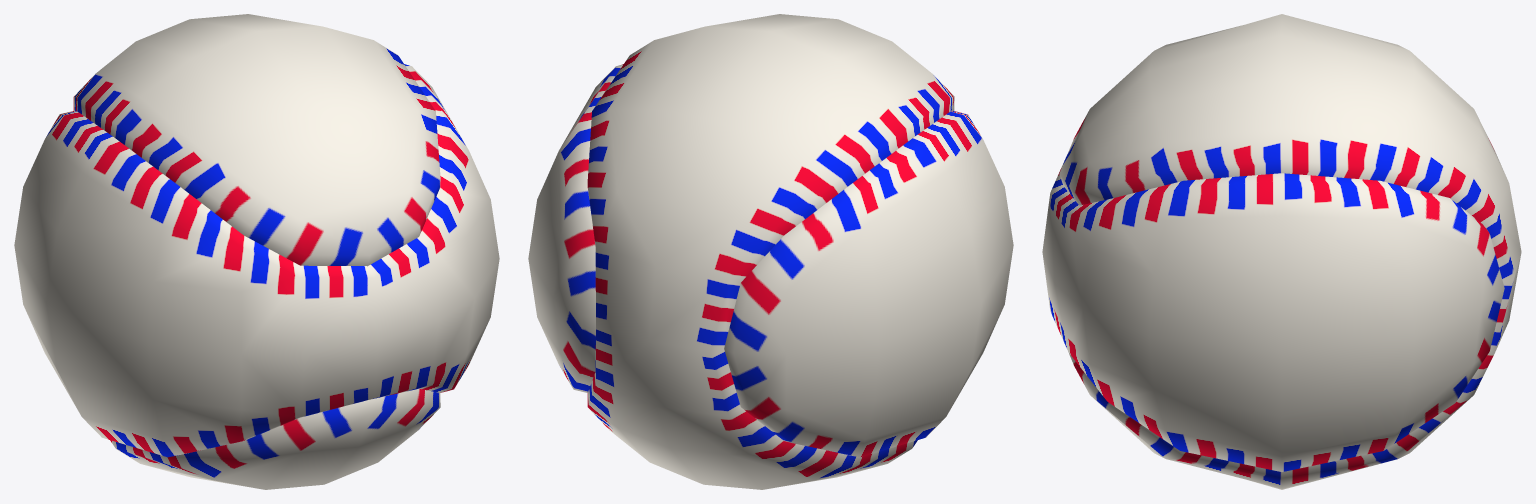
File: TNP0110003.FBX
The picture shows the model from 3 angles, left to right: view 1: azimuth 30°, elevation 25°; view 2: azimuth 150°, elevation 25°; view 3: azimuth 270°, elevation 25°; orthographic projection.
Visible parts, largest first — view 1: smTNP0110003; view 2: smTNP0110003; view 3: smTNP0110003.
Part boxes in pixels (<box>): smTNP0110003: <box>14,14,499,489</box>; smTNP0110003: <box>528,14,1013,489</box>; smTNP0110003: <box>1042,14,1521,489</box>.
Bounding box in the file's own units: 11.71 × 11.71 × 11.71.
1 material, 1 textured.
